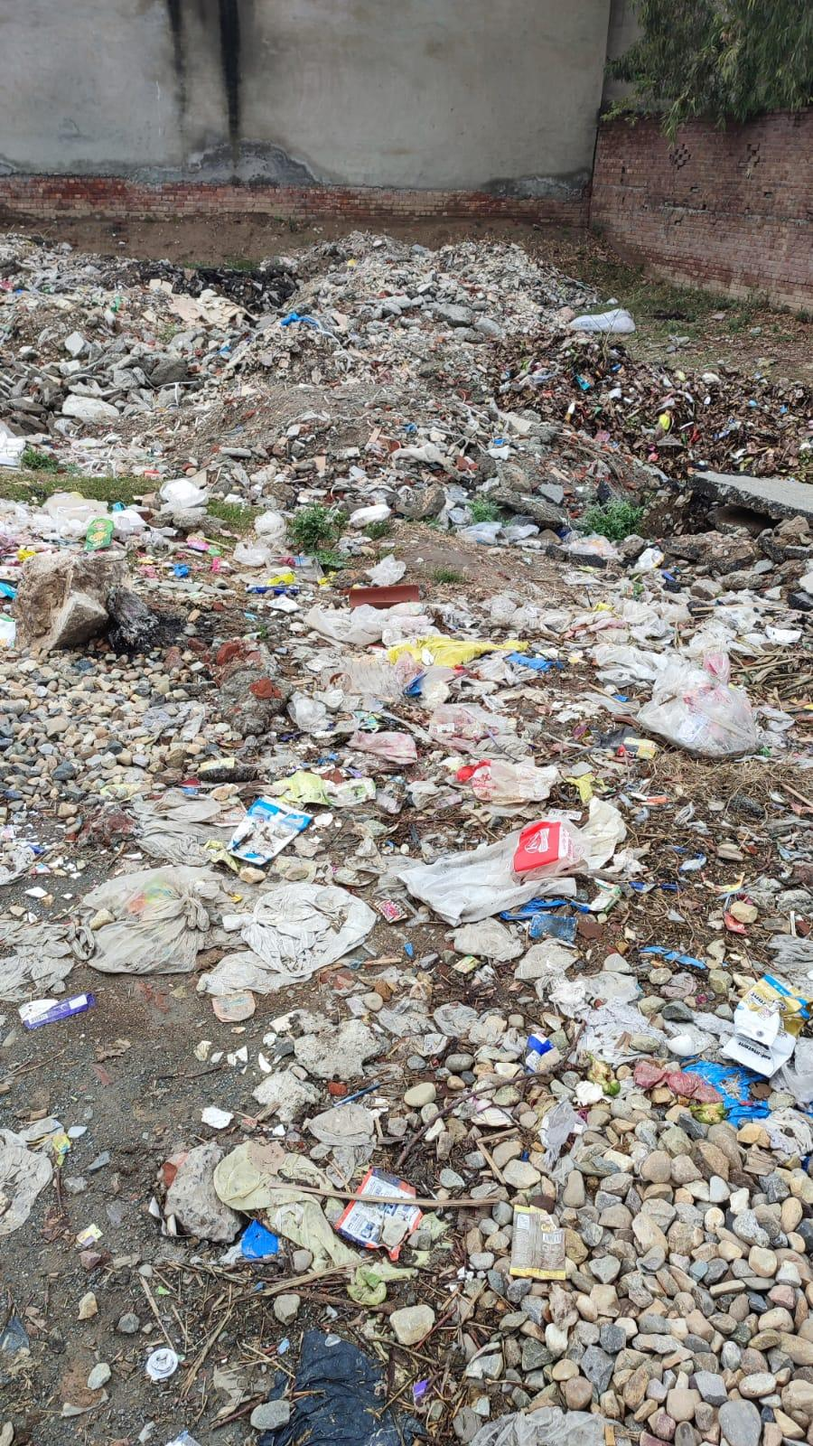garbage: (128, 446, 813, 1312)
